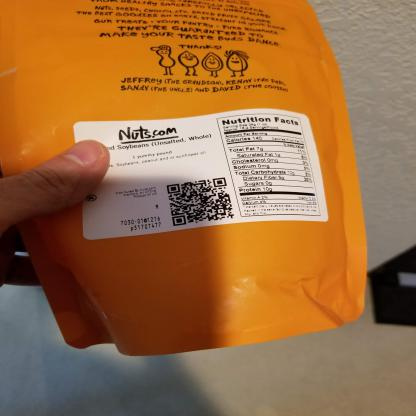qr: (164, 175, 237, 228)
